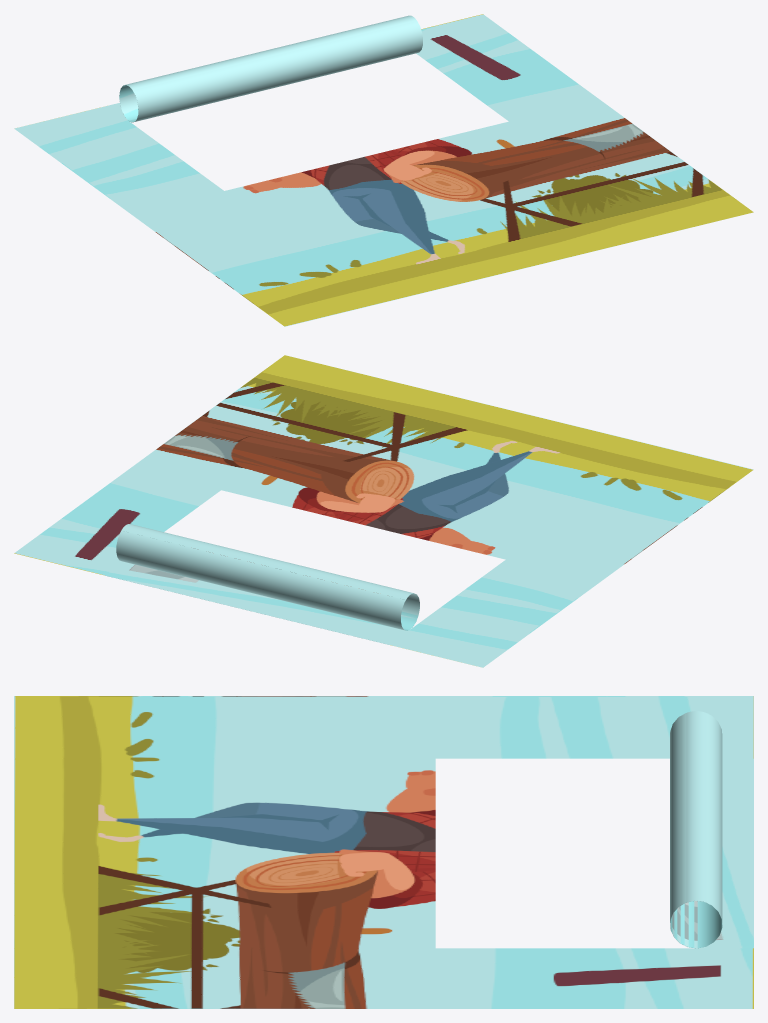
The model's file is Level 73.fbx.
The picture shows the model from 3 angles, top to bottom: view 1: azimuth 30°, elevation 25°; view 2: azimuth 150°, elevation 25°; view 3: azimuth 270°, elevation 25°; orthographic projection. The views are drawn at different scales.
Parts seen in each view (by area): view 1: background, screen; view 2: background, screen; view 3: background, screen.
Boxes of the visible parts, bbox=[...] form: background: bbox=[14, 14, 753, 326]; screen: bbox=[108, 15, 422, 122]; background: bbox=[14, 355, 753, 667]; screen: bbox=[105, 524, 419, 644]; background: bbox=[14, 696, 753, 1008]; screen: bbox=[670, 711, 753, 948].
Size of the model in its own units: 2400 by 171 by 2400.
